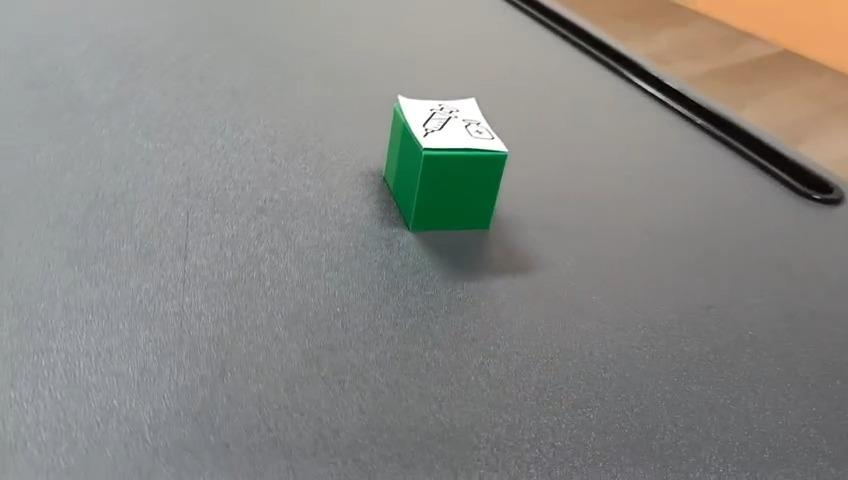antiseptic cream: (381, 93, 509, 232)
